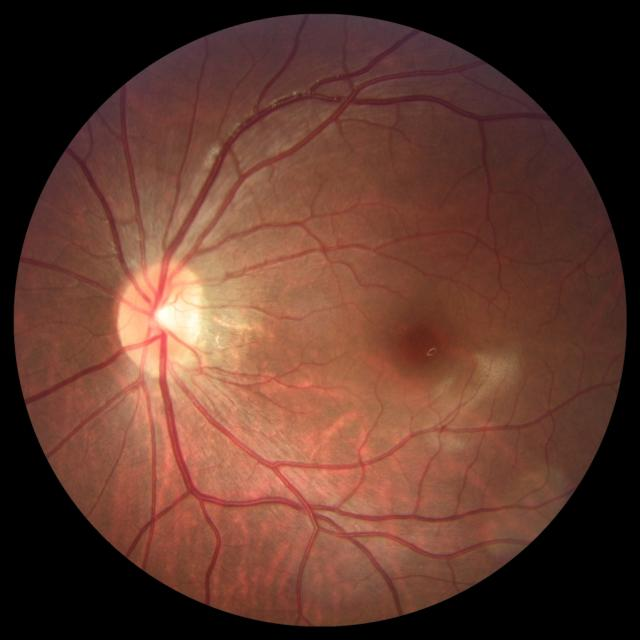OC: (148, 298, 188, 338)
OD: (116, 258, 206, 377)
